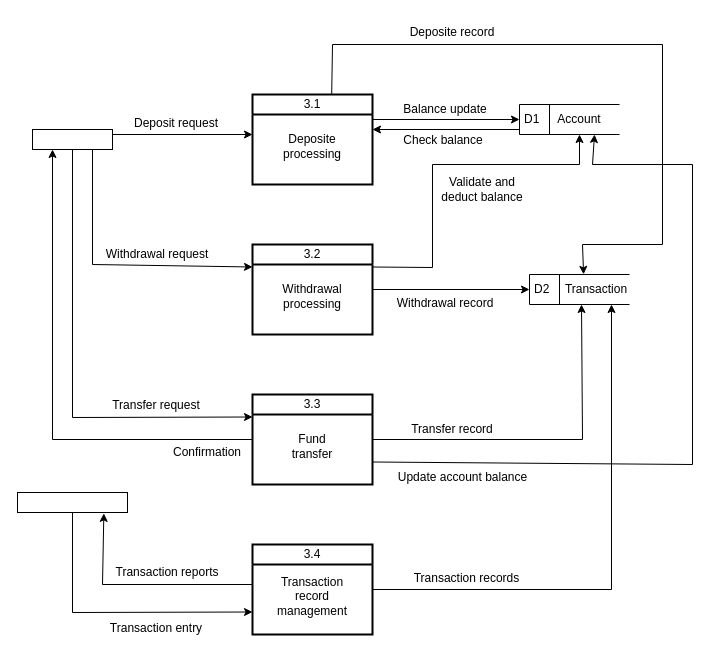
The diagram is 718 pixels wide and 660 high, and some of its shapes have lost their labels. Each missing label, with the centre of its shape:
Bank employee: [72,502]
Customer: [72,139]
